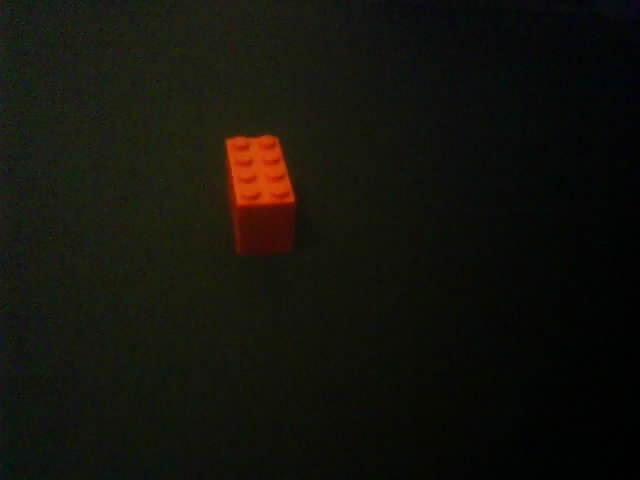lego: (223, 134, 298, 255)
